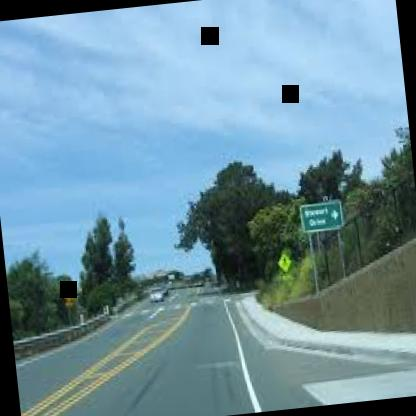car: (147, 286, 166, 304)
